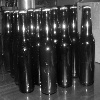beer: (14, 10, 42, 100)
